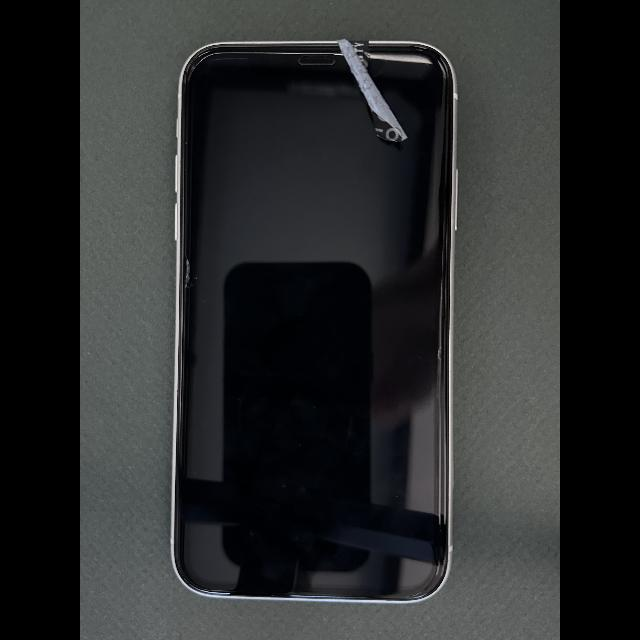phone: (170, 40, 458, 603)
sticker: (338, 38, 408, 143)
